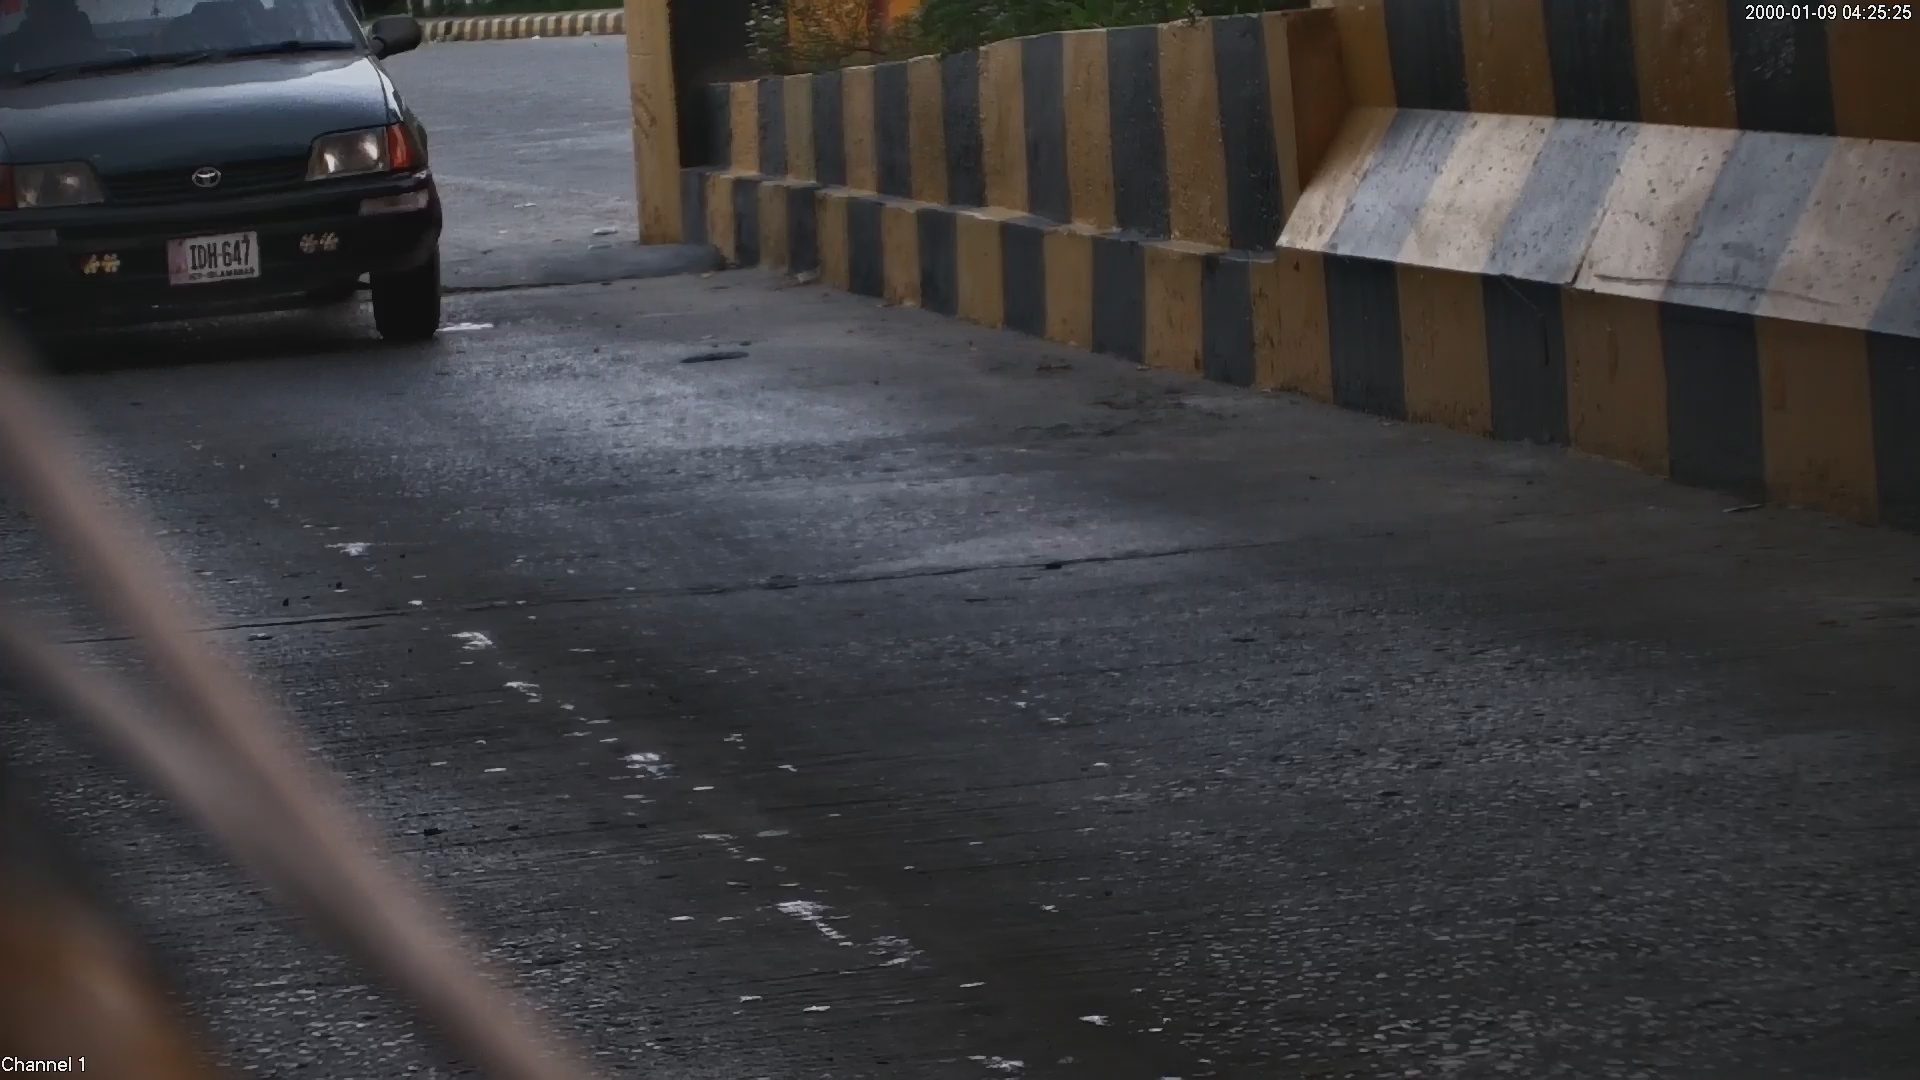Number_Plate: (150, 231, 276, 290)
